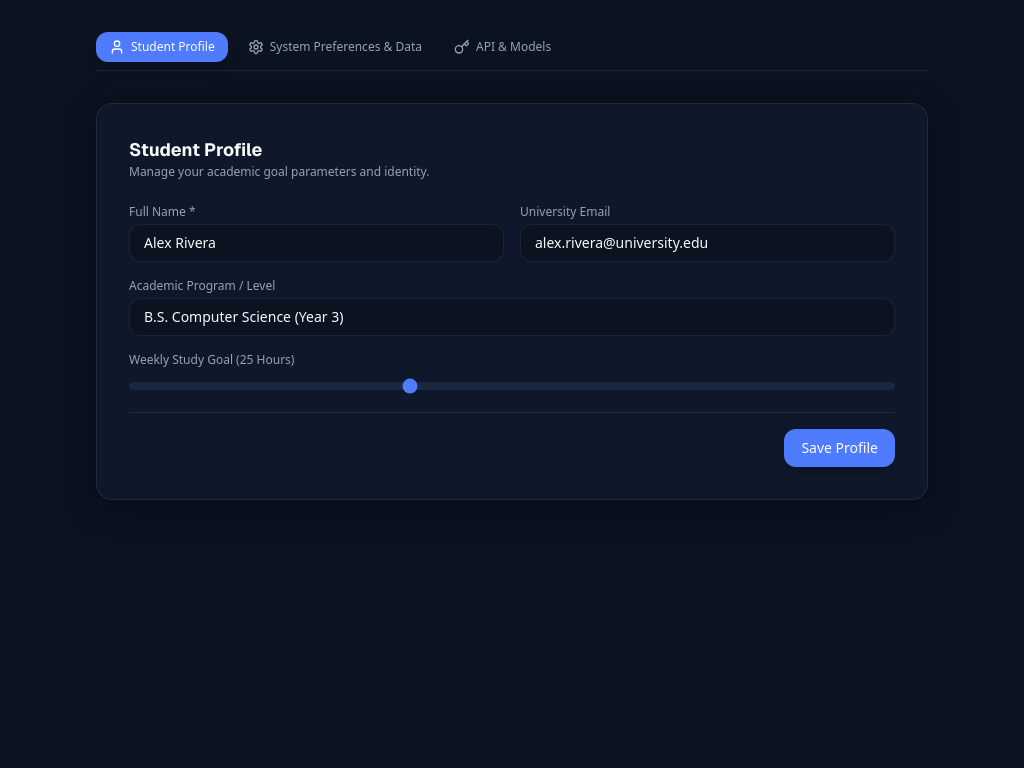
it: WP-04 Settings complete-backup integration › writes and validates an Electron Version 2 export through exact-path readback
Click the button "System Preferences & Data".
click(335, 47)  # box [236,33,434,61]
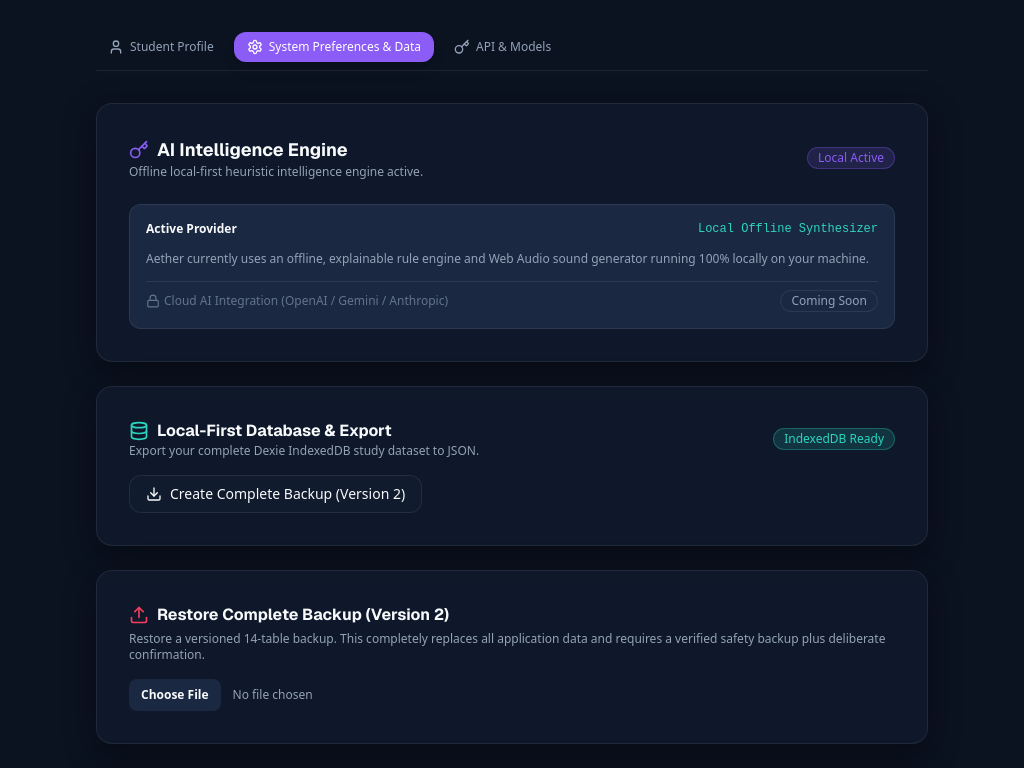
Click the button "Create Complete Backup (Version 2)".
click(276, 494)  # box [129,474,422,512]
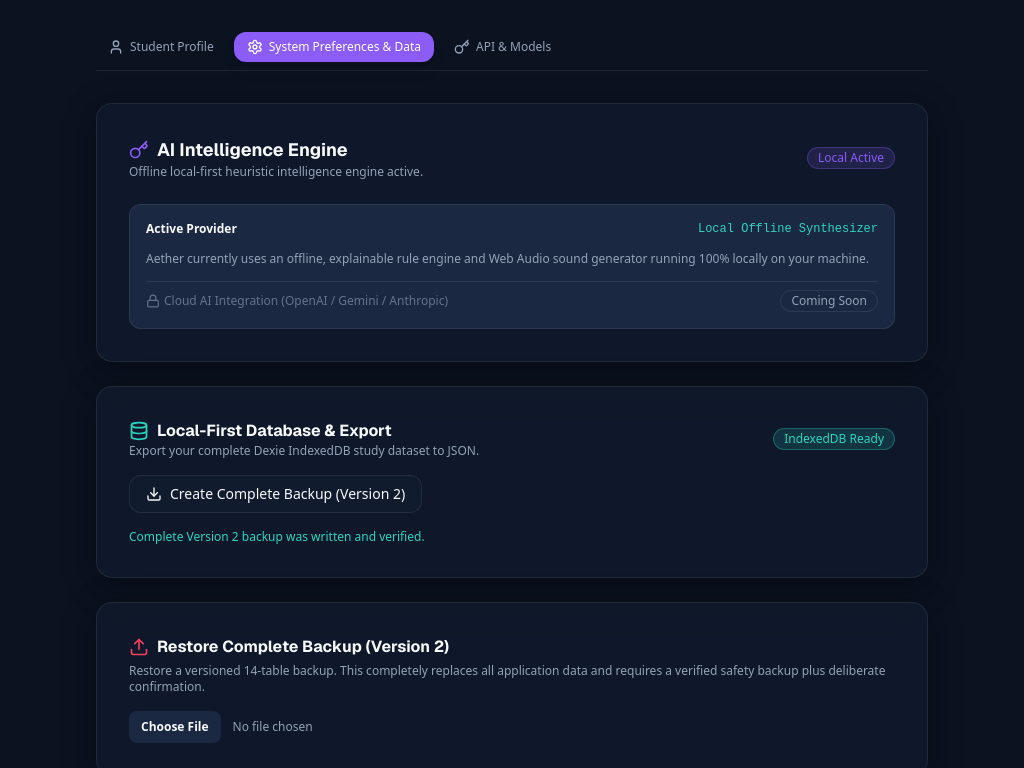
Result: the message reads "Complete Version 2 backup was written and verified." at [129,528,425,544]
